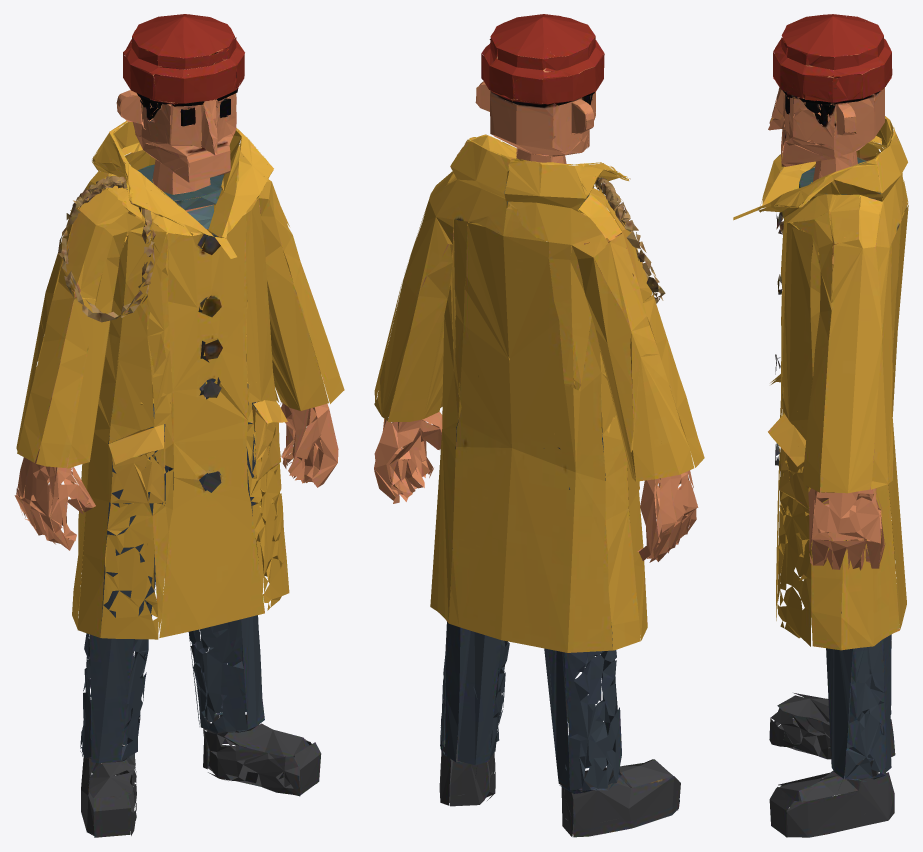
The model's file is habitant.glb.
3 views of the same model, side by side, from view 1: azimuth 30°, elevation 25°; view 2: azimuth 150°, elevation 25°; view 3: azimuth 270°, elevation 25° (orthographic).
Parts seen in each view (by area): view 1: world; view 2: world; view 3: world.
Part boxes in pixels (box(x1,y1,x2,y2)): world: box(14, 14, 344, 837); world: box(374, 14, 704, 837); world: box(733, 14, 908, 837).
Size of the model in its own units: 0.4288 by 1 by 0.207.
1 material, 1 textured.
